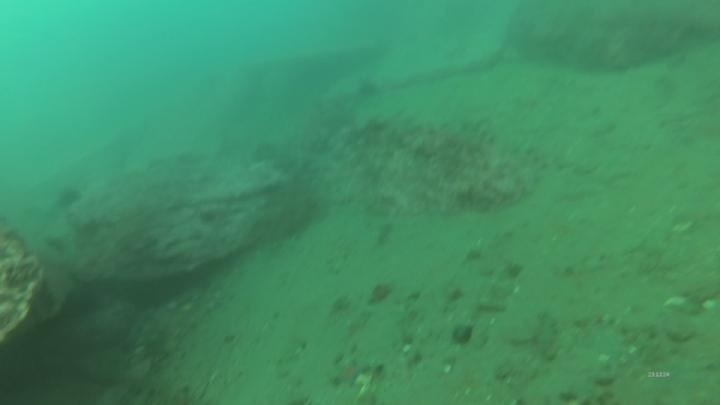echinus: (54, 184, 84, 211)
starfish: (329, 353, 374, 390)
